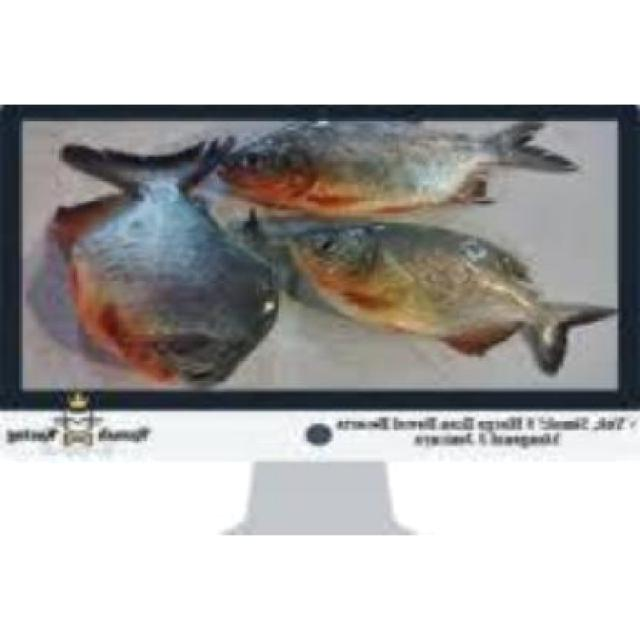ikan-pacu: (56, 138, 279, 382), (290, 218, 612, 376), (214, 115, 570, 214)
